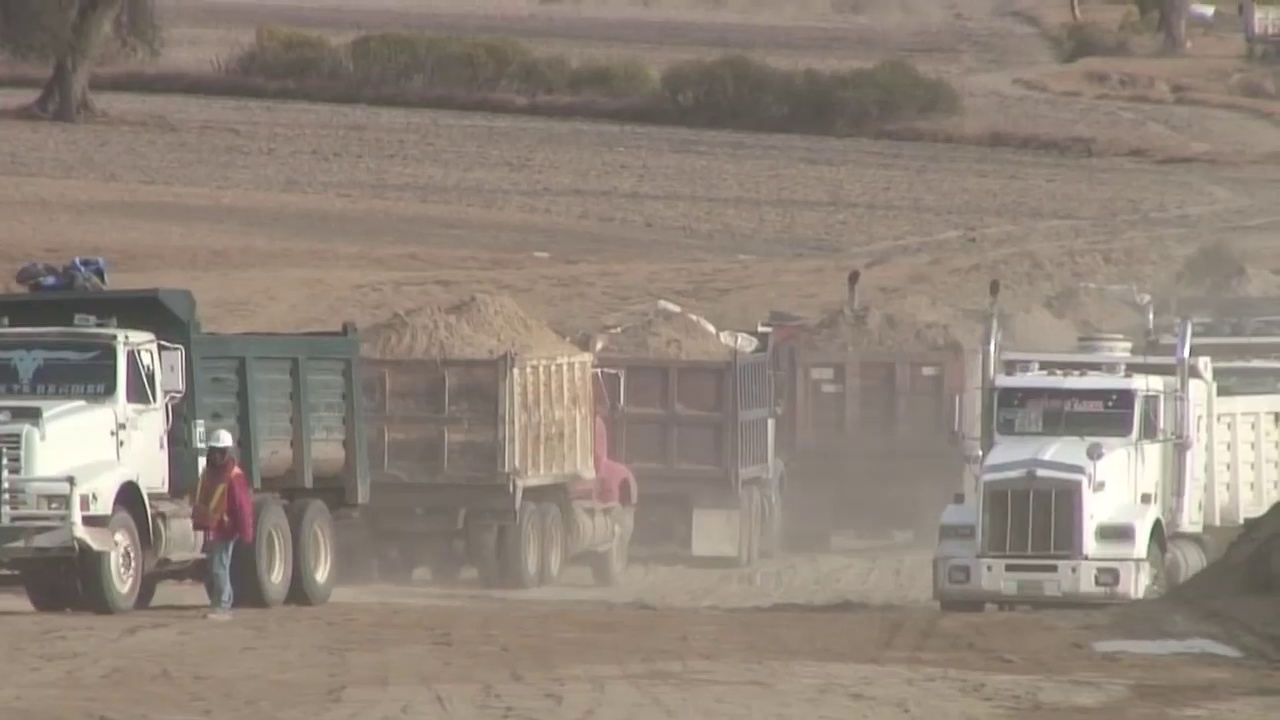person: (201, 428, 252, 622)
truck: (6, 286, 367, 606), (936, 321, 1280, 613), (363, 312, 637, 587), (606, 327, 793, 569), (783, 308, 973, 539)
